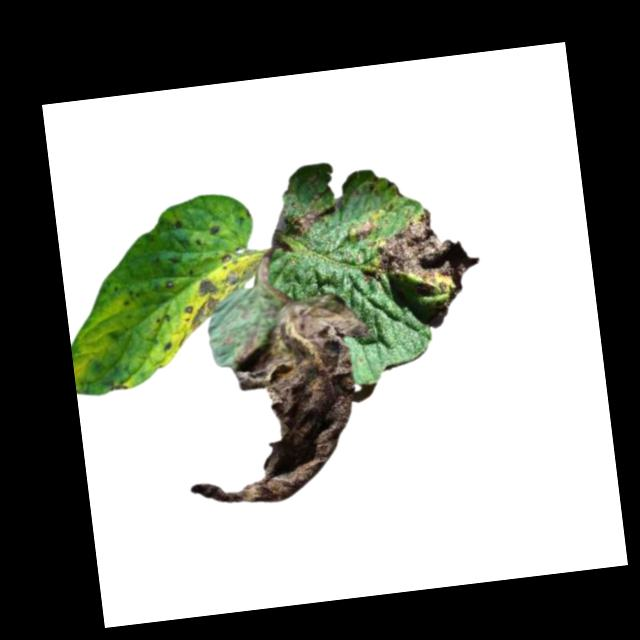Early_blight: (167, 291, 389, 511), (368, 200, 486, 309), (172, 253, 267, 340), (273, 204, 337, 239), (349, 215, 376, 241), (205, 221, 221, 235), (159, 339, 172, 350), (164, 278, 175, 290)
